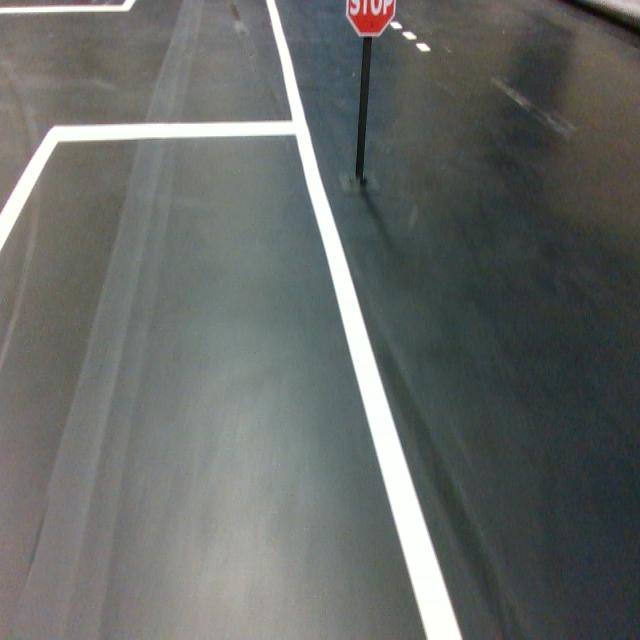stop-sign: (345, 0, 397, 38)
